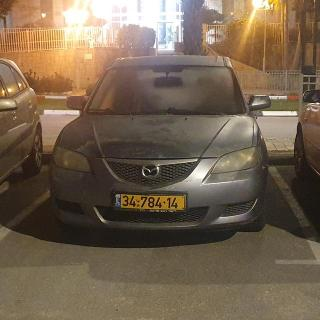LicensePlate: (121, 195, 185, 210)
